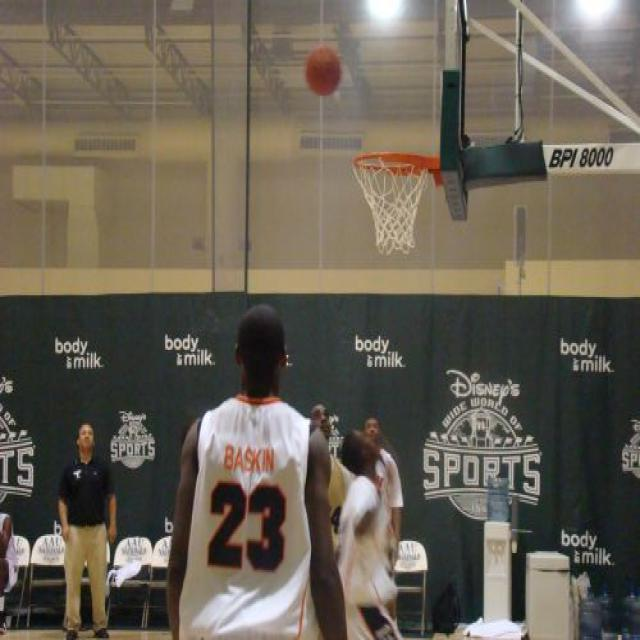basketball: (305, 47, 344, 97)
